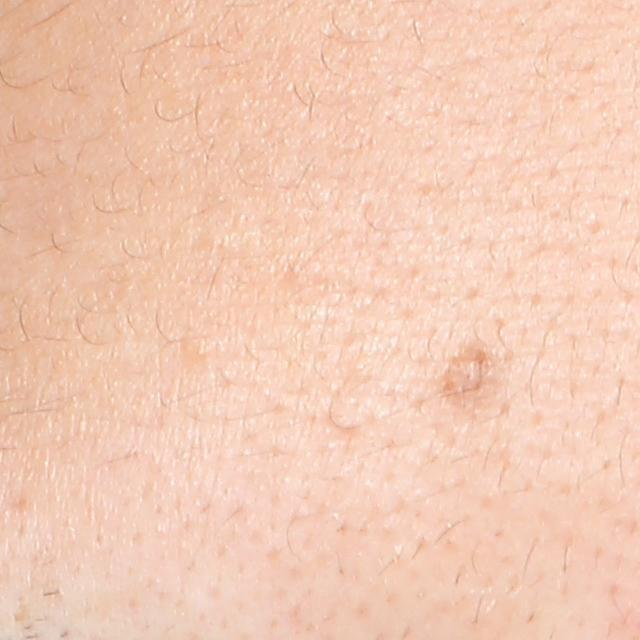atrophic_scar: (444, 342, 496, 412)
